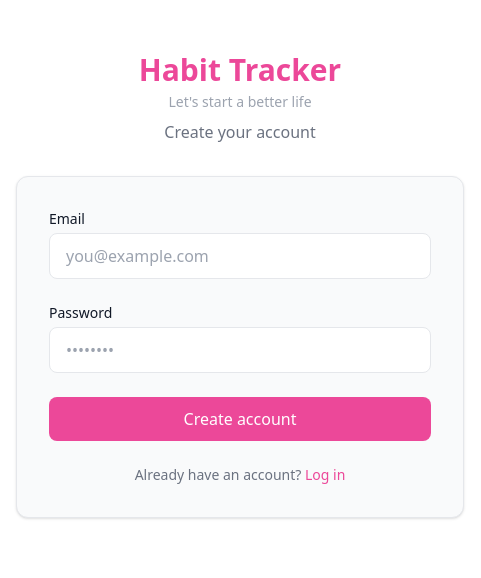
Test: RegisterPage › shows password strength feedback as user types
Type "ab" into the password field labelled "Password" at (240, 350), box [49,327,431,373]
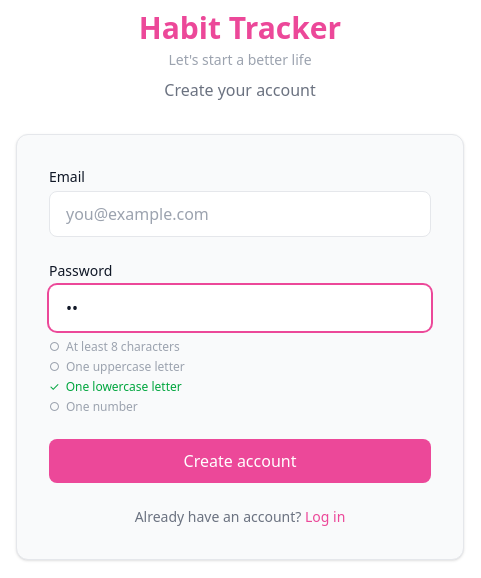
Check: the list item "○ At least 8 characters" is shown, box [49,338,180,355]
Check: the list item "○ One uppercase letter" is shown, box [49,358,185,375]
Check: the list item "○ One number" is shown, box [49,398,138,415]
